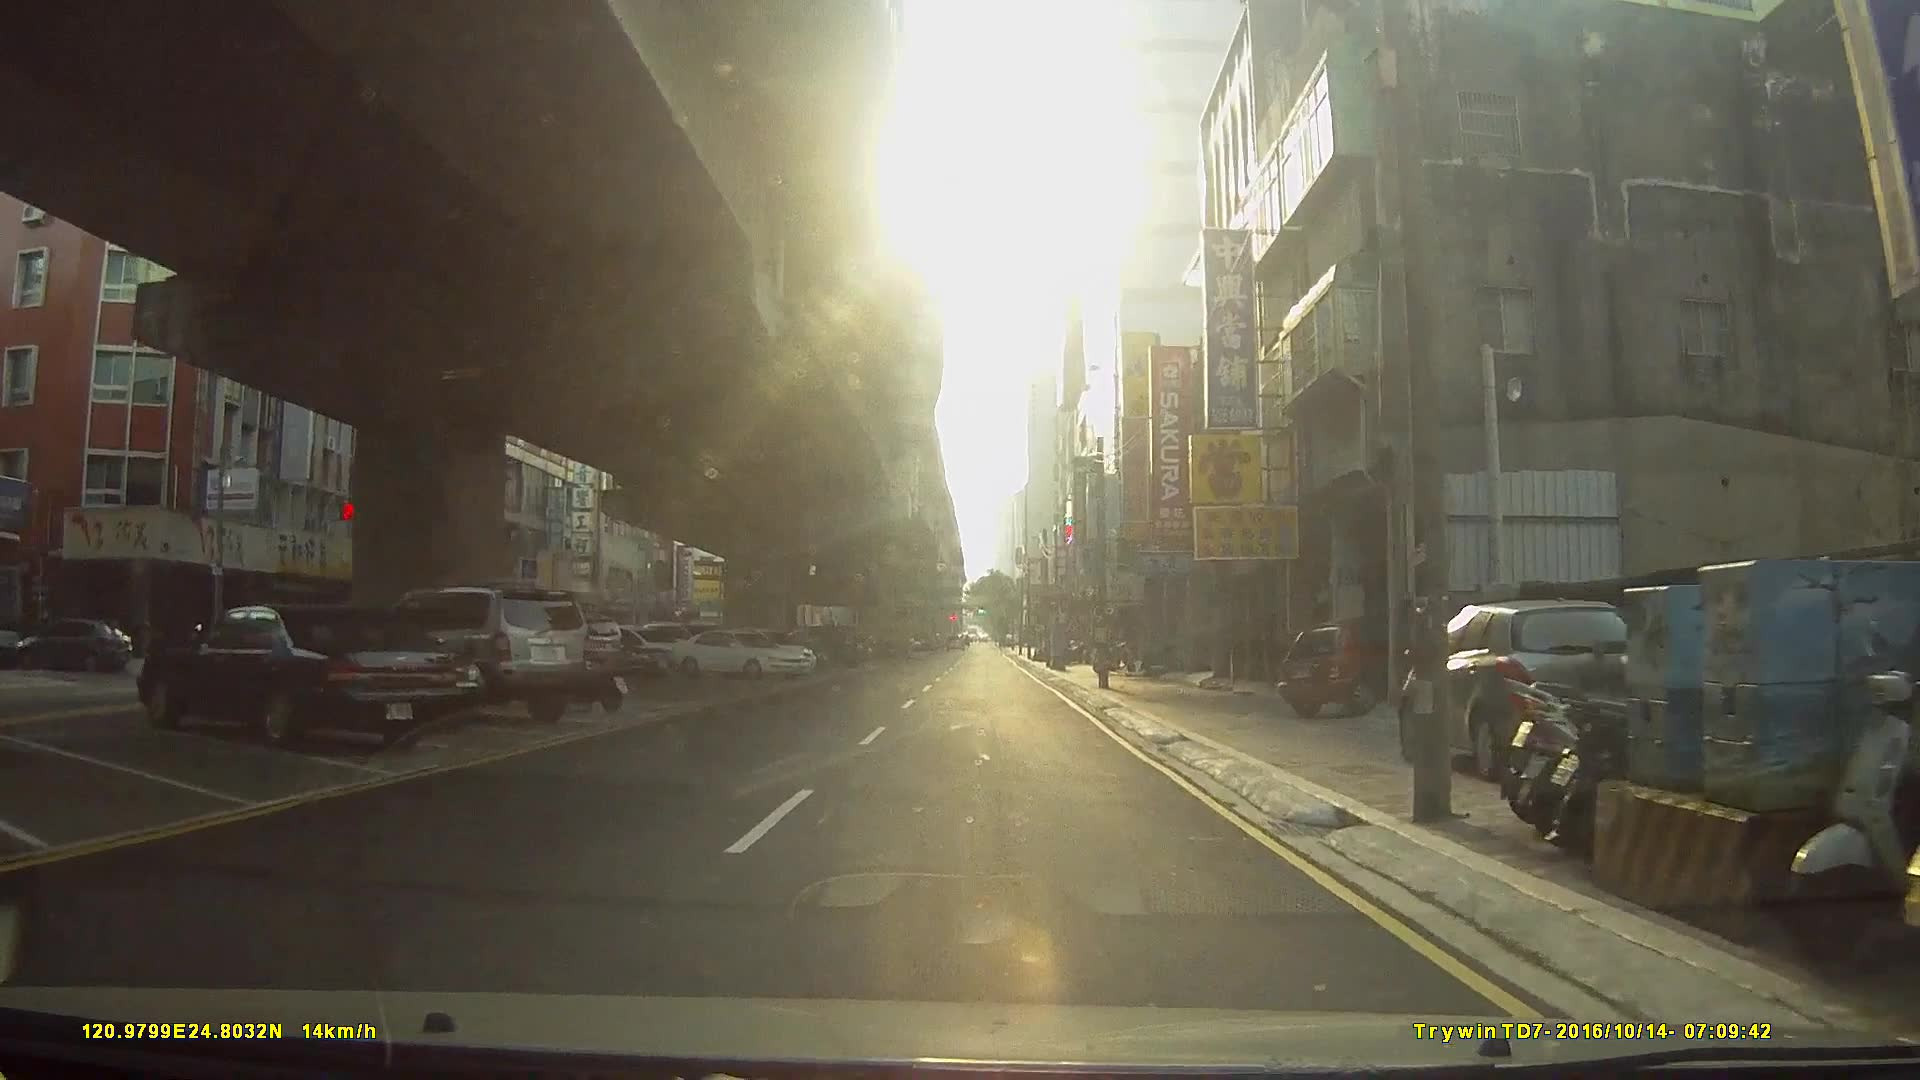vehicle: (1396, 593, 1658, 779), (133, 601, 456, 750), (368, 582, 593, 727), (1279, 612, 1433, 716), (669, 624, 815, 680), (11, 616, 135, 670)
